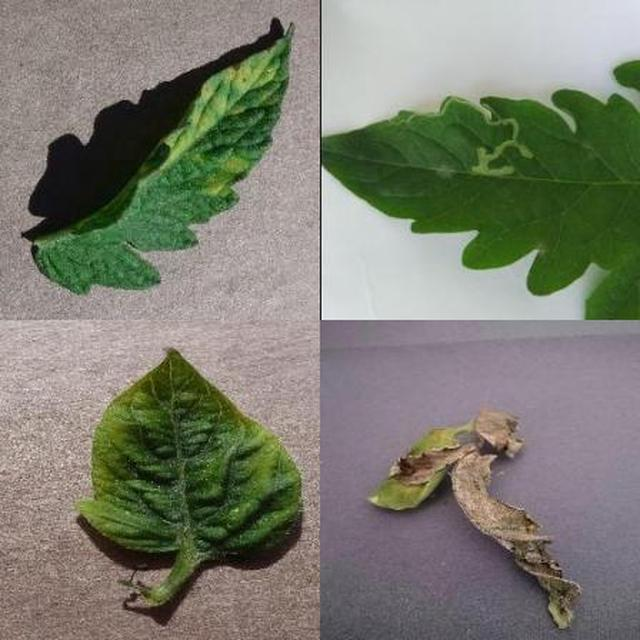Leaf Mold: (234, 229, 640, 640)
